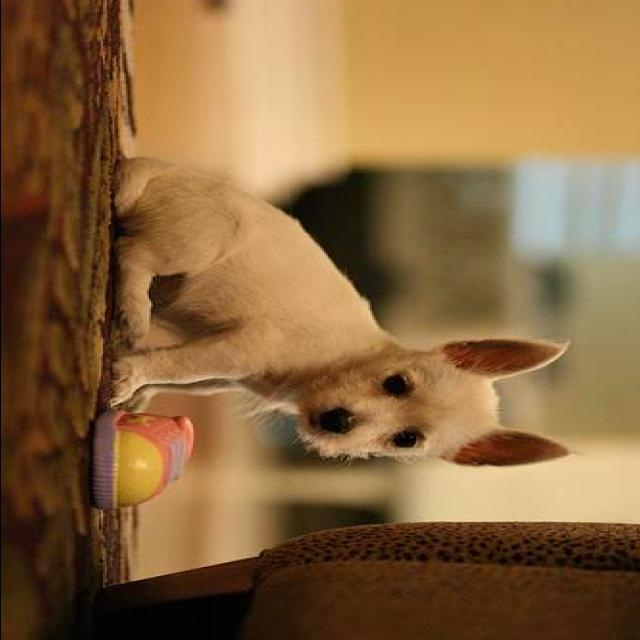toy_terrier: (100, 154, 580, 472)
